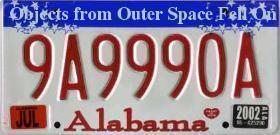placa de veiculo: (3, 0, 278, 132)
